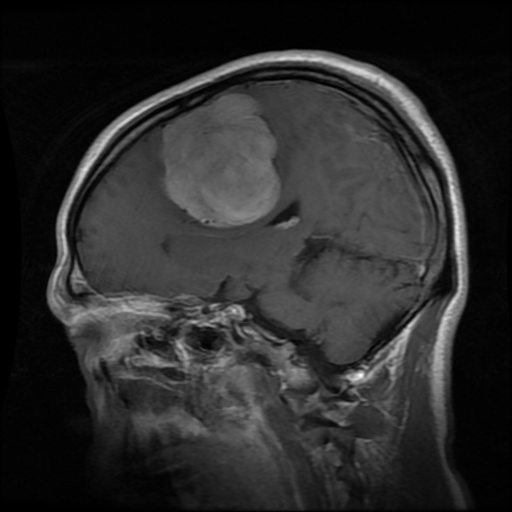meningioma: (160, 95, 282, 225)
